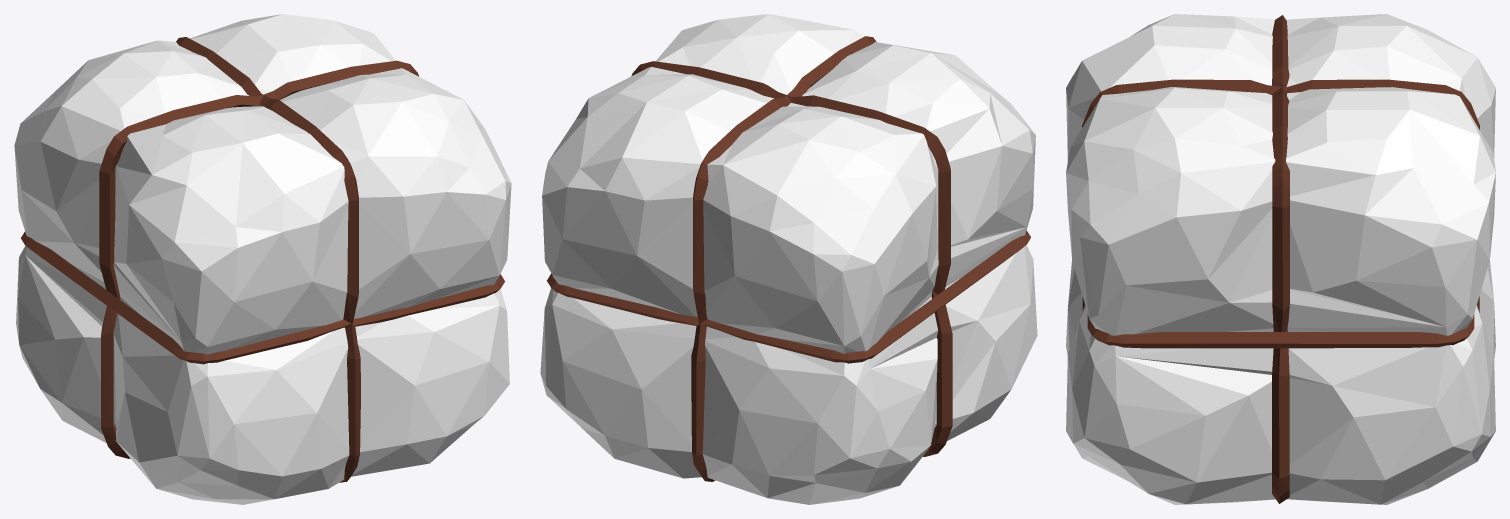
File: SFFA_Bag.fbx
3 views of the same model, side by side, from view 1: azimuth 30°, elevation 25°; view 2: azimuth 150°, elevation 25°; view 3: azimuth 270°, elevation 25° (orthographic). The views are drawn at different scales.
Visible parts, largest first — view 1: SFFA_Bag; view 2: SFFA_Bag; view 3: SFFA_Bag.
Boxes of the visible parts, x1,y1,x2,y2 form: SFFA_Bag: [14, 14, 511, 504]; SFFA_Bag: [540, 14, 1037, 504]; SFFA_Bag: [1066, 14, 1495, 504].
Bounding box in the file's own units: 46.27 × 46.41 × 46.95.
